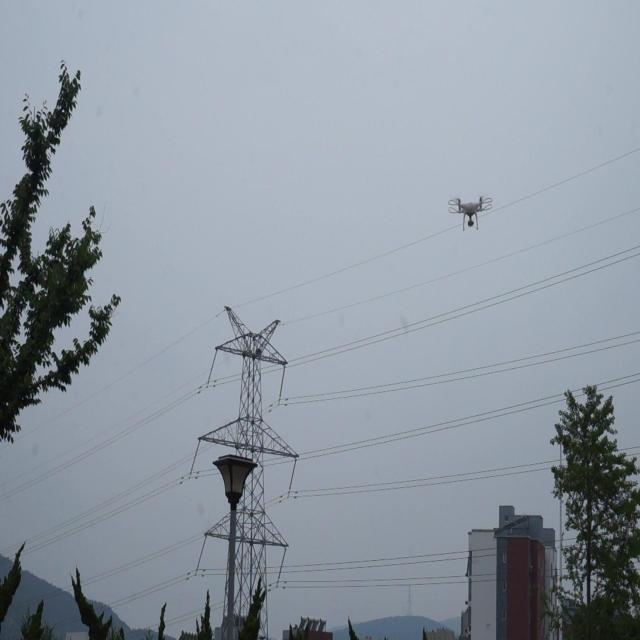drone: (448, 194, 494, 232)
